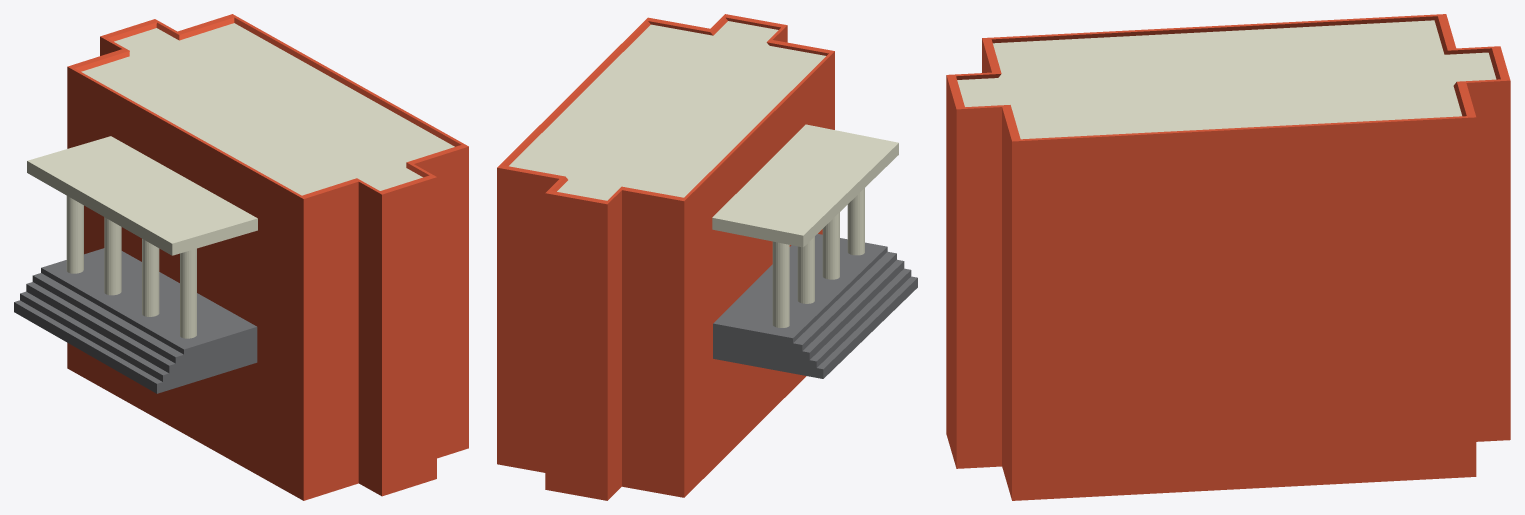
The model's file is EastWest Center.fbx.
3 renders of one model, left to right at view 1: azimuth 30°, elevation 25°; view 2: azimuth 150°, elevation 25°; view 3: azimuth 270°, elevation 25°, orthographic. The views are drawn at different scales.
Visible parts, largest first — view 1: East-West Center; view 2: East-West Center; view 3: East-West Center.
Boxes of the visible parts, left/top/right/bottom form: East-West Center: left=14, top=14, right=468, bottom=500; East-West Center: left=497, top=14, right=917, bottom=500; East-West Center: left=946, top=14, right=1510, bottom=500.
Bounding box in the file's own units: 220 × 200 × 284.
